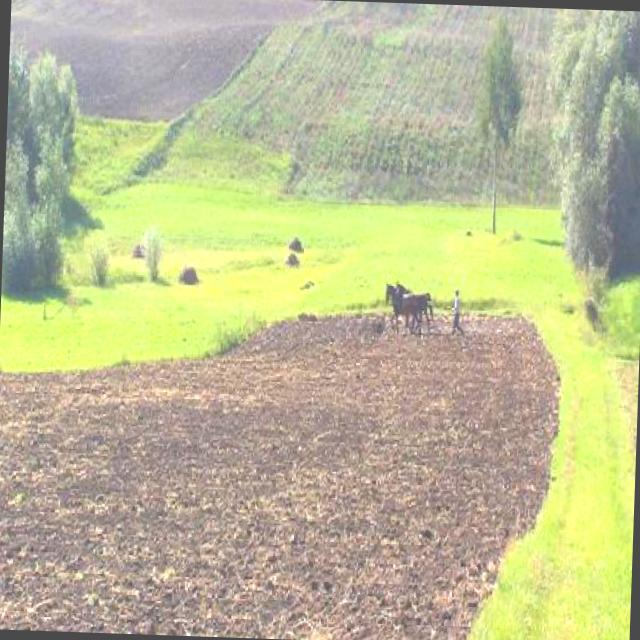Person: (449, 286, 466, 338)
